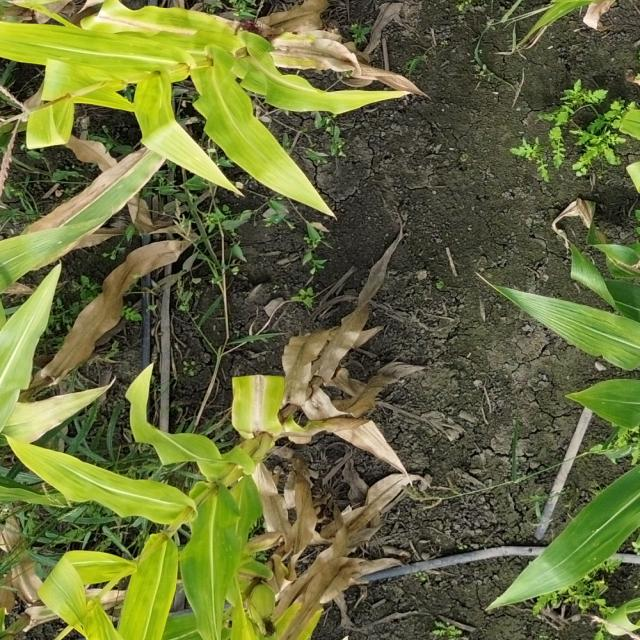northern-leaf-blight: (39, 150, 152, 222), (238, 368, 286, 441)
southern-leaf-blight: (202, 515, 252, 581), (569, 516, 616, 583)
